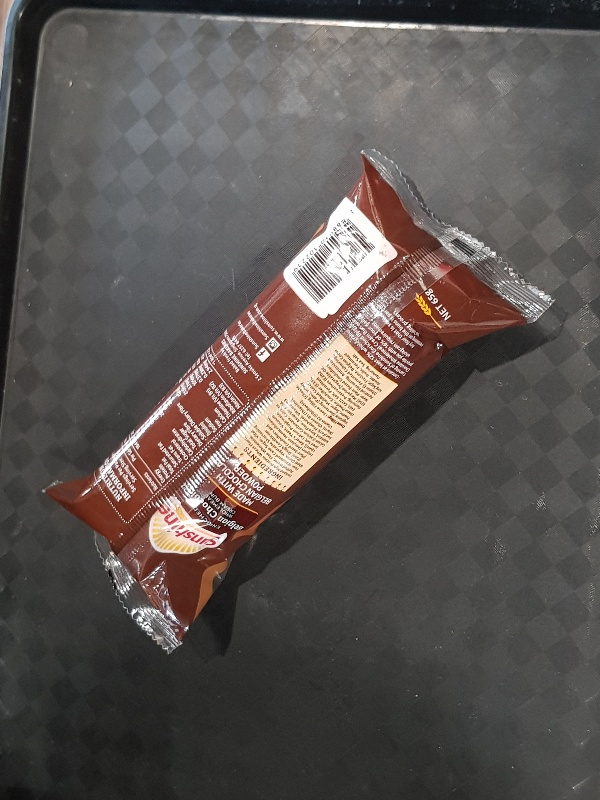Sunshine Belgium Chocolate Wholemeal Cream Bun: (41, 147, 553, 653)
